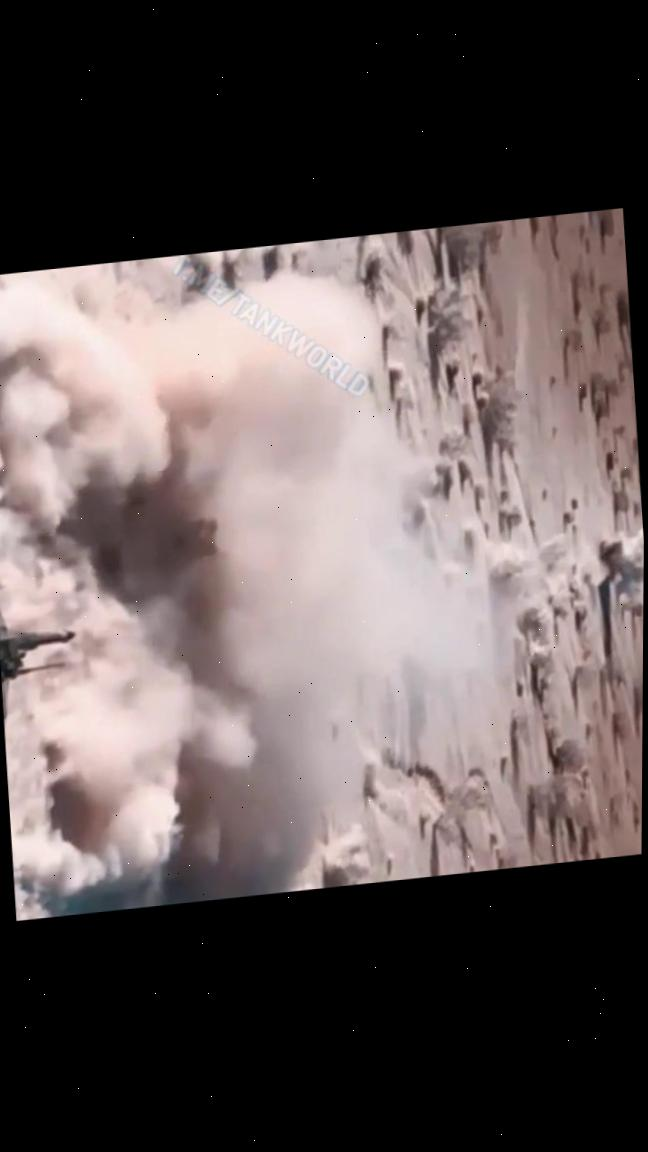tank: (0, 315, 101, 903)
